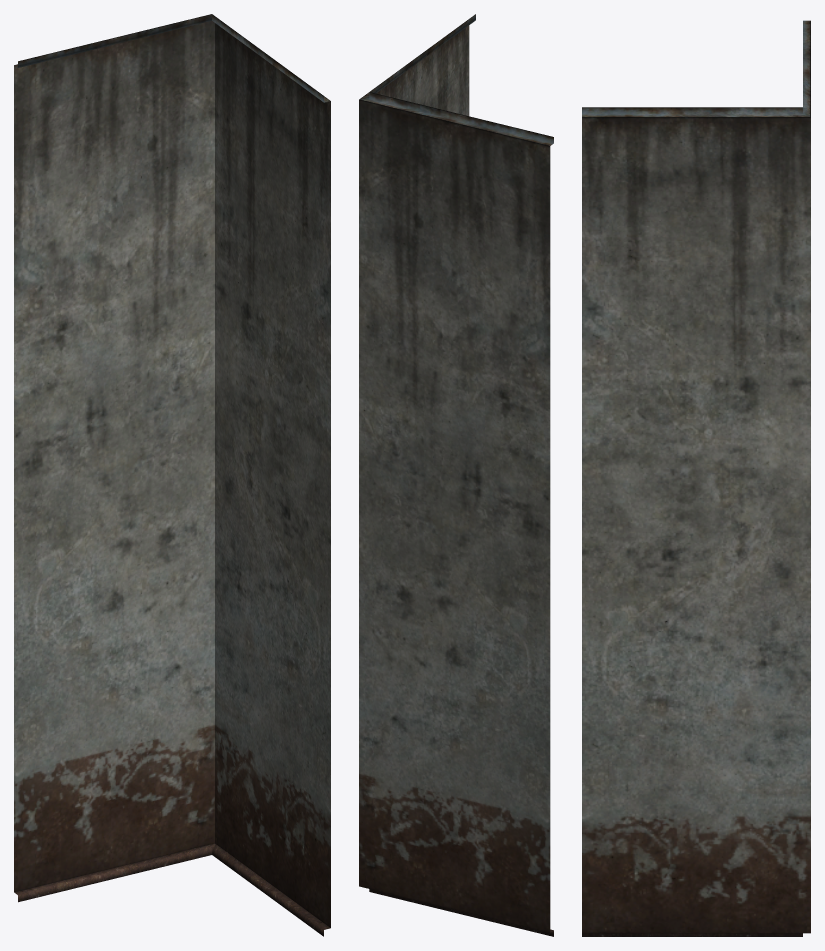
The model's file is scanningroom_damaged_concave_short.dae.
3 views of the same model, side by side, from view 1: azimuth 30°, elevation 25°; view 2: azimuth 150°, elevation 25°; view 3: azimuth 270°, elevation 25° (orthographic). The views are drawn at different scales.
Visible parts, largest first — view 1: polySurface13; view 2: polySurface13; view 3: polySurface13.
Boxes of the visible parts, <box> form: polySurface13: <box>14,14,330,936</box>; polySurface13: <box>359,14,553,936</box>; polySurface13: <box>582,20,810,936</box>.
Bounding box in the file's own units: 1 × 4 × 1.
